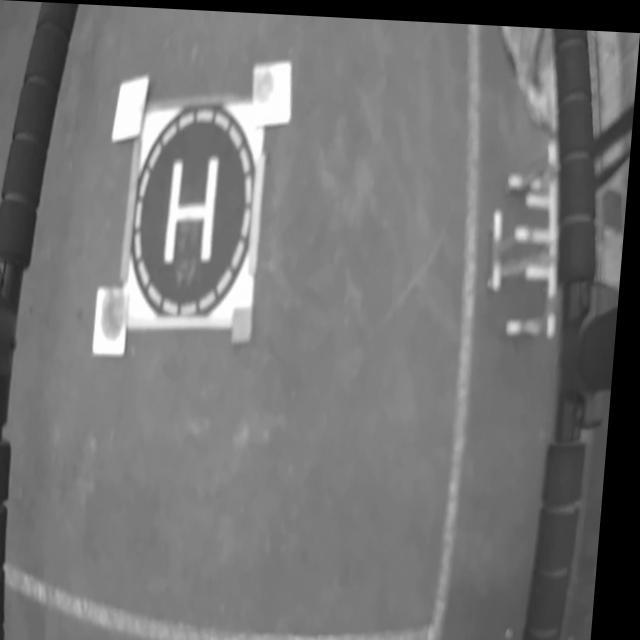Helipad: (169, 155, 222, 262)
